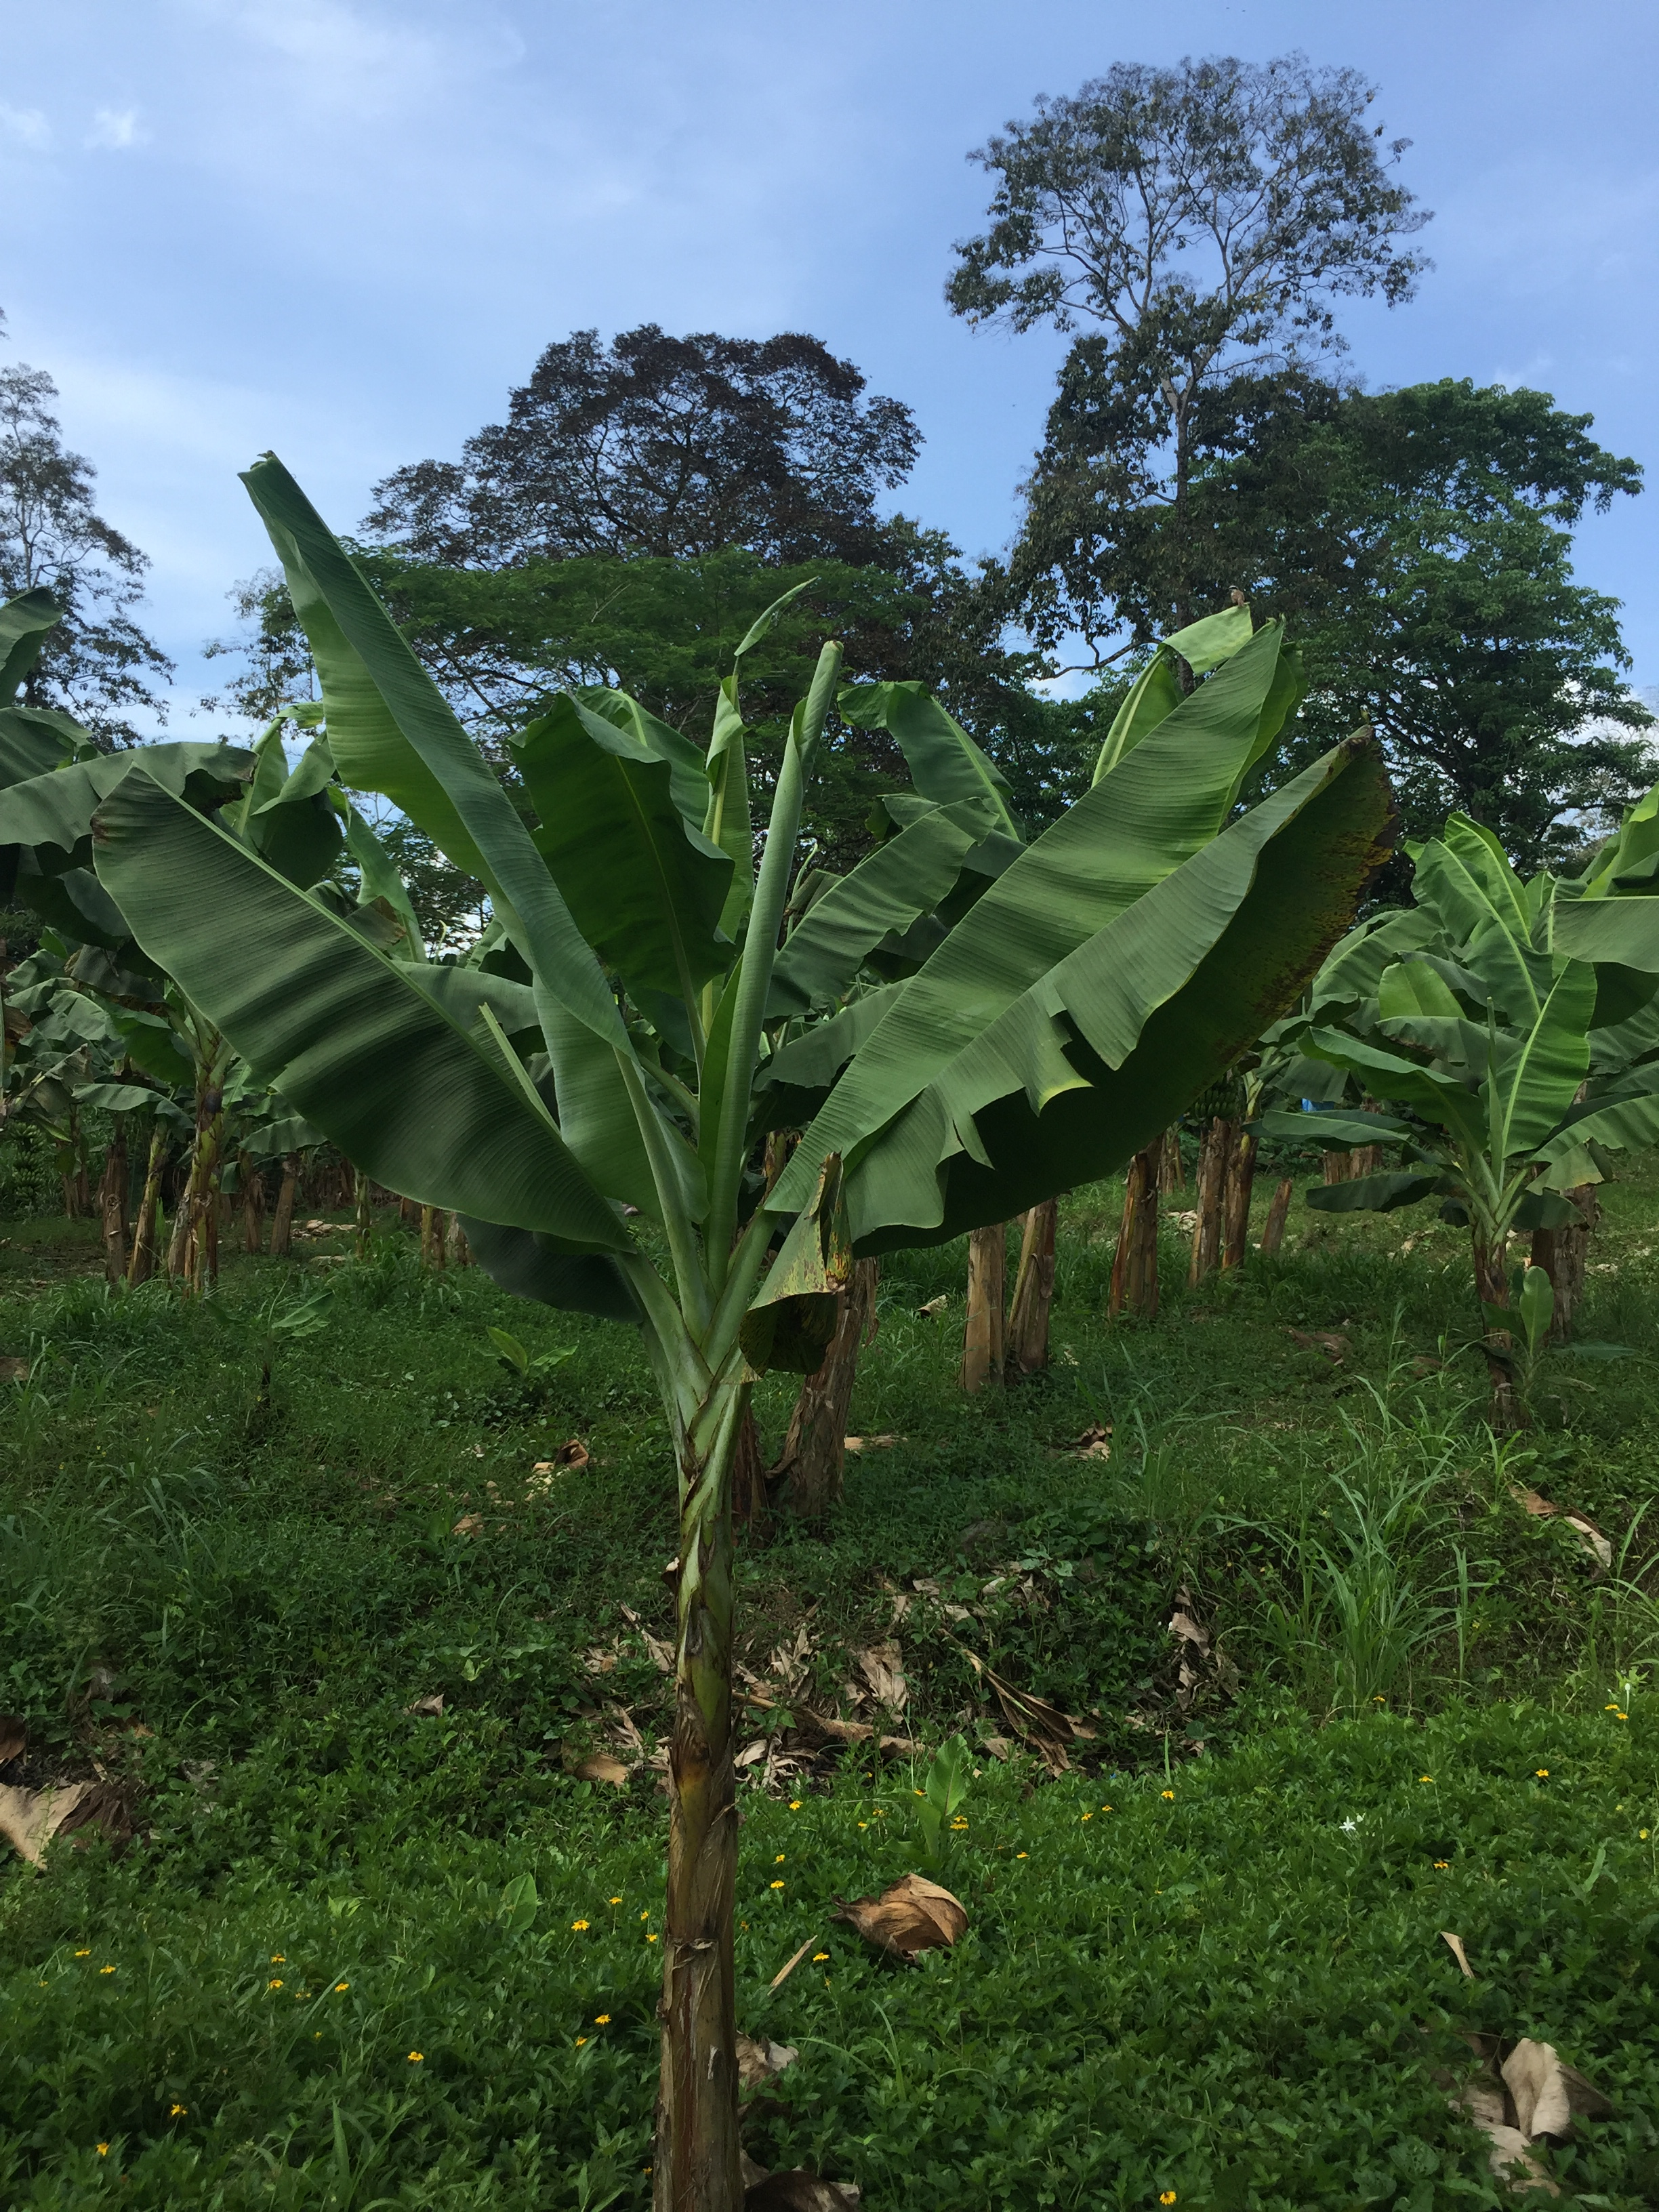candleleafs: (702, 637, 845, 1266), (1485, 995, 1507, 1179)
